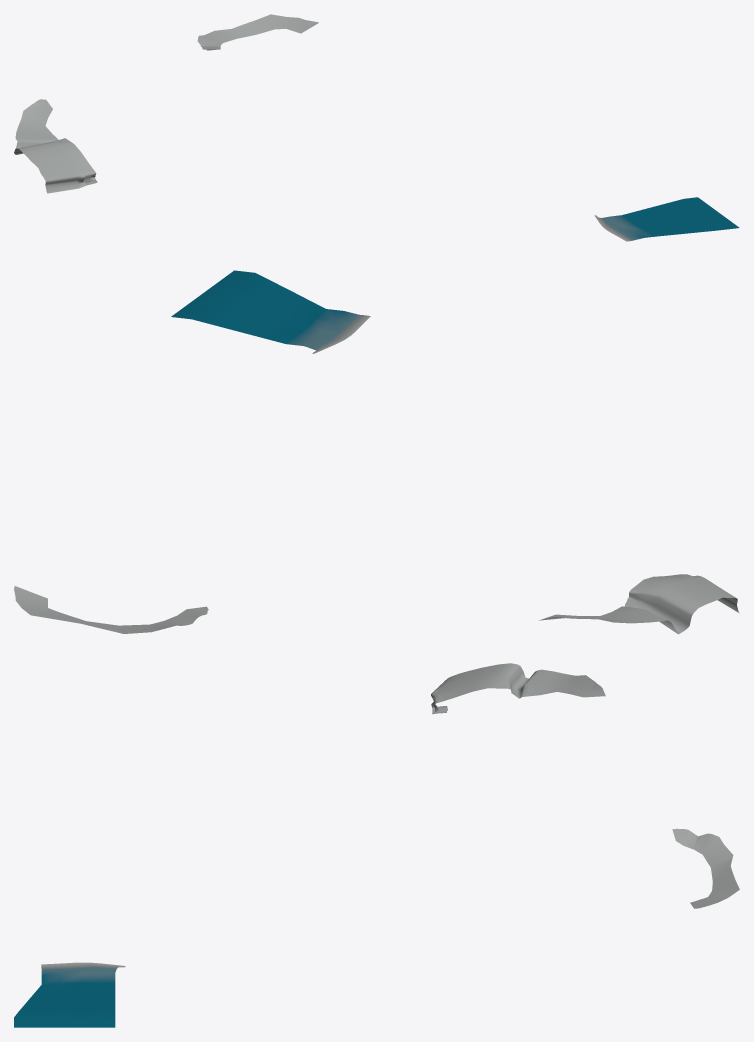
The picture shows the model from 3 angles, top to bottom: view 1: azimuth 30°, elevation 25°; view 2: azimuth 150°, elevation 25°; view 3: azimuth 270°, elevation 25°; orthographic projection. The views are drawn at different scales.
Parts seen in each view (by area): view 1: G:\FFXIV-MapTools\exports\s1f3\bg\ffxiv\sea_s1\fld\s1f3\bgpa (×3); view 2: G:\FFXIV-MapTools\exports\s1f3\bg\ffxiv\sea_s1\fld\s1f3\bgpa (×3); view 3: G:\FFXIV-MapTools\exports\s1f3\bg\ffxiv\sea_s1\fld\s1f3\bgpa (×2).
Part boxes in pixels (bbox=[...]): G:\FFXIV-MapTools\exports\s1f3\bg\ffxiv\sea_s1\fld\s1f3\bgpa (×3): bbox=[14, 14, 739, 240]; G:\FFXIV-MapTools\exports\s1f3\bg\ffxiv\sea_s1\fld\s1f3\bgpa (×3): bbox=[14, 270, 739, 634]; G:\FFXIV-MapTools\exports\s1f3\bg\ffxiv\sea_s1\fld\s1f3\bgpa (×2): bbox=[14, 663, 739, 1027].
Size of the model in its own units: 1462 by 166 by 1488.
